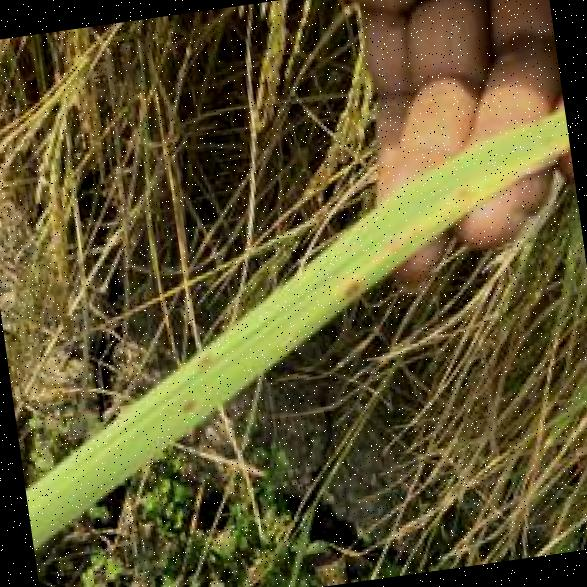Brown_Spot: (439, 174, 474, 204), (190, 345, 214, 369), (168, 392, 196, 411), (334, 280, 362, 296)
